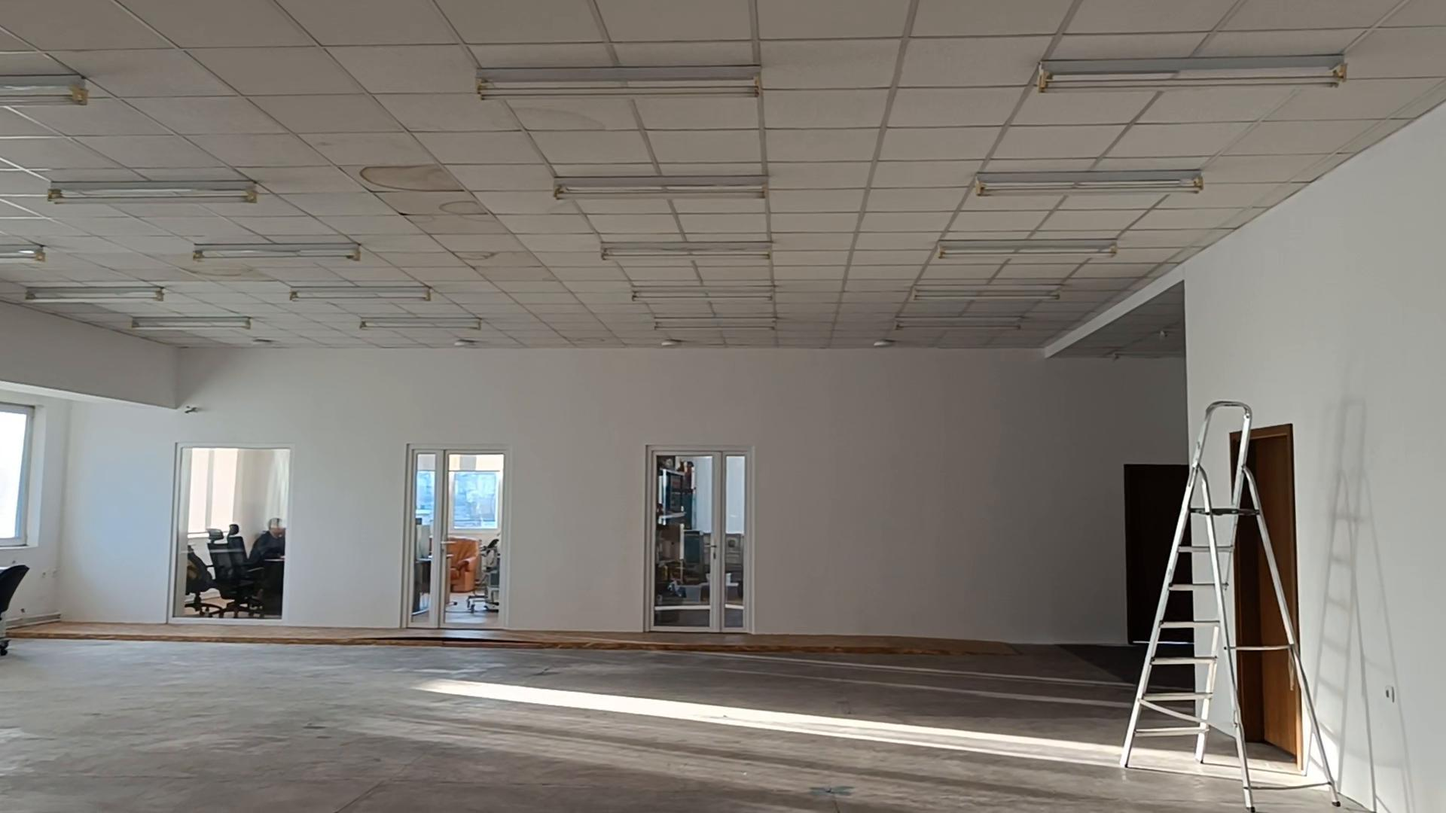ceiling: (0, 0, 1445, 347)
floor: (0, 638, 1244, 812)
wall: (64, 353, 1184, 639), (1046, 114, 1443, 812), (0, 305, 181, 406)
